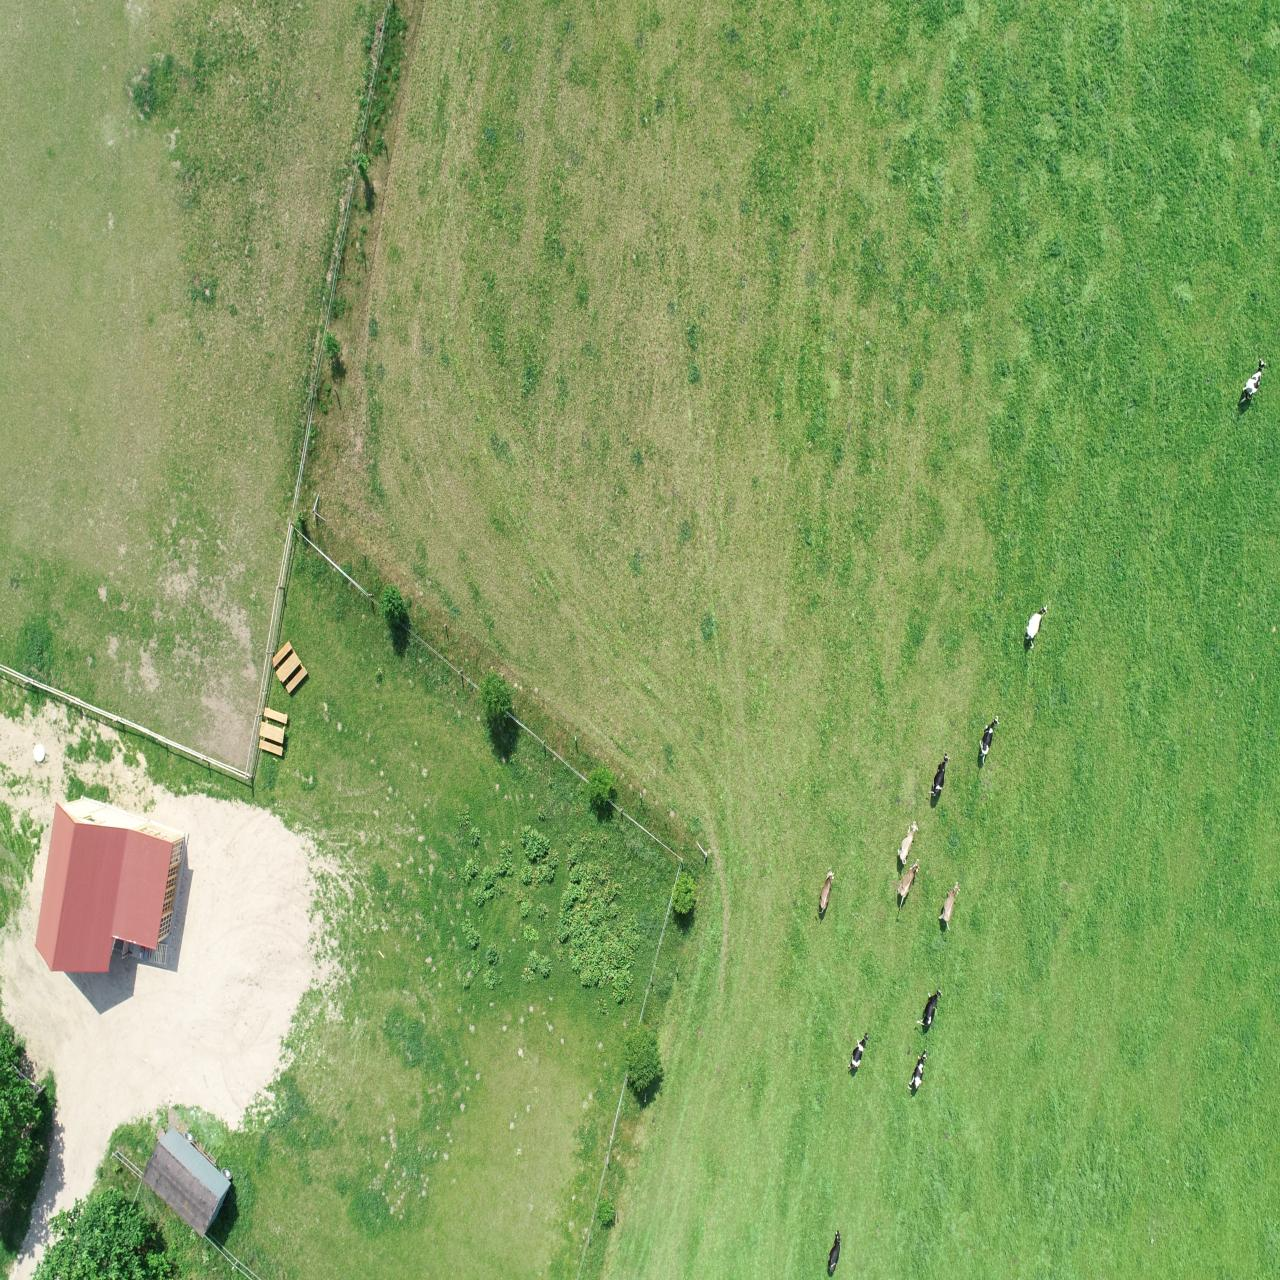cow: (888, 855, 922, 912), (1235, 355, 1269, 409), (1021, 600, 1050, 654), (976, 713, 1002, 769), (914, 986, 945, 1030), (925, 751, 952, 799), (938, 880, 961, 933), (896, 819, 920, 866), (845, 1032, 871, 1075), (906, 1047, 930, 1094), (824, 1228, 845, 1278), (815, 866, 835, 914)
